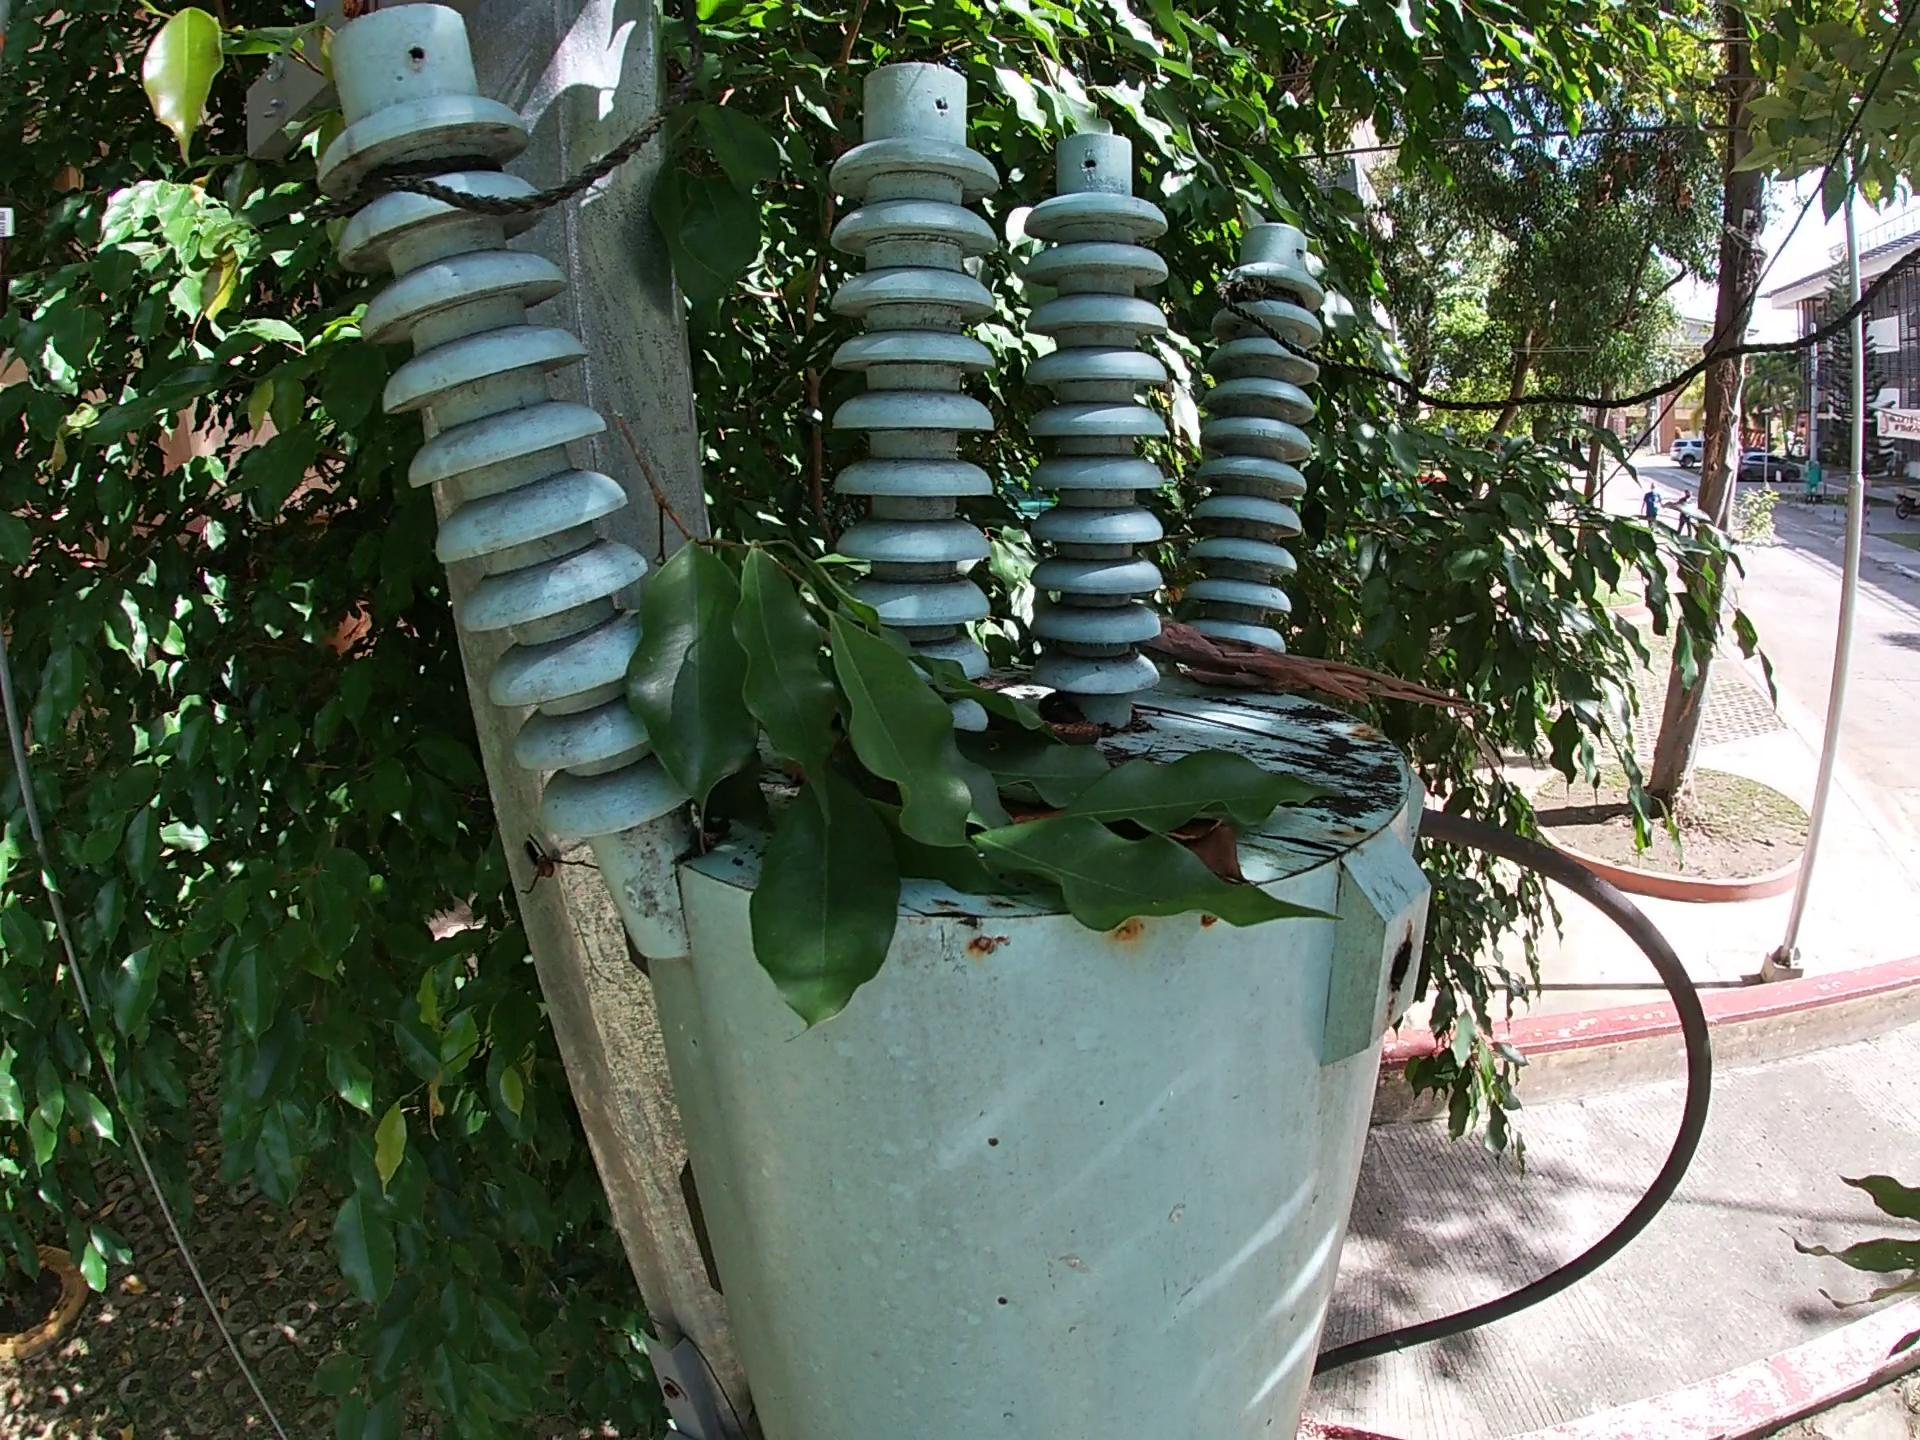branch with leaves: (600, 411, 1352, 1063)
mahogany fruit: (1150, 809, 1284, 895), (987, 796, 1058, 818)
tree branch: (1113, 611, 1479, 735), (1137, 697, 1380, 768)
